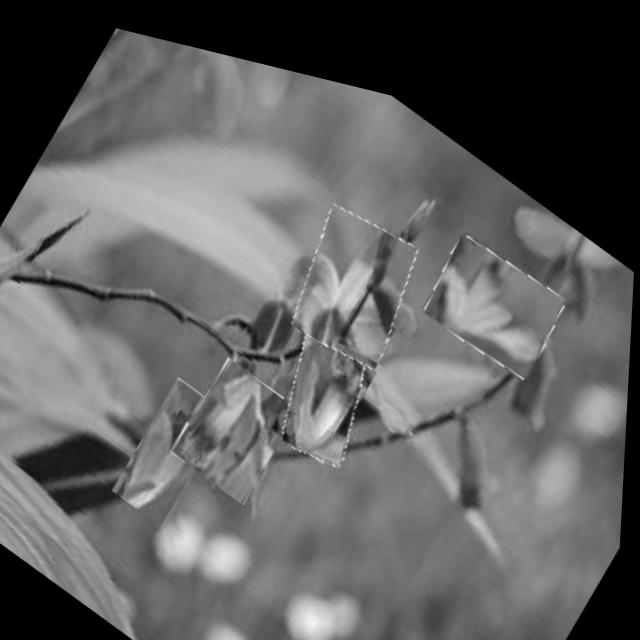Flower: (278, 169, 435, 369), (419, 198, 573, 367), (172, 334, 305, 504), (116, 356, 235, 532), (264, 300, 390, 466)
